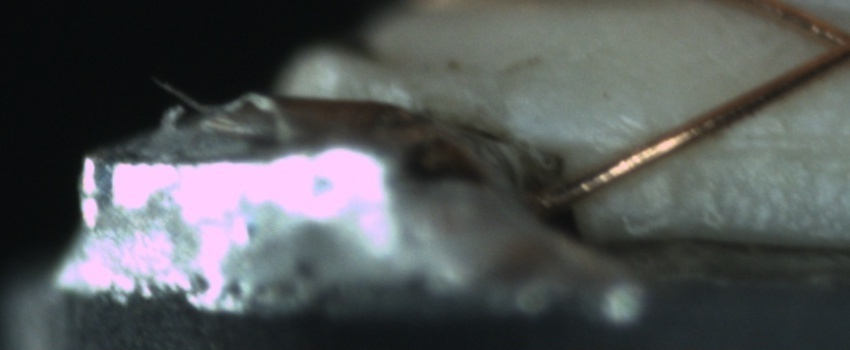CL: (802, 11, 850, 79)
DL: (683, 110, 849, 178)
